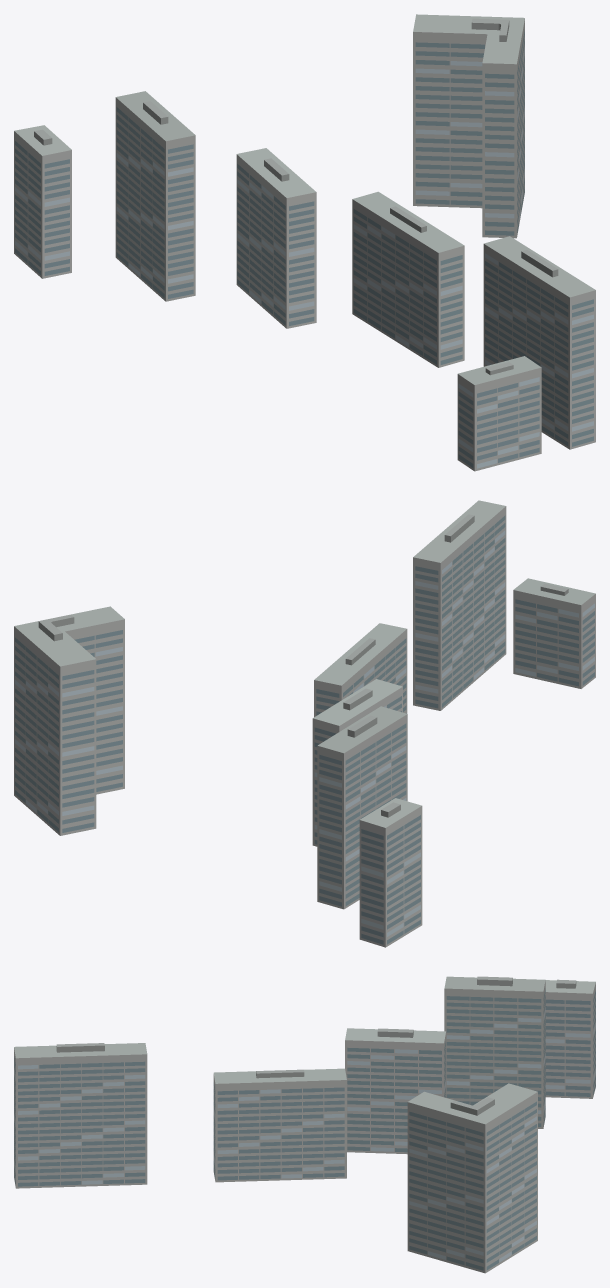
The model's file is apt-a10025166.glb.
3 views of the same model, one above another, from view 1: azimuth 30°, elevation 25°; view 2: azimuth 150°, elevation 25°; view 3: azimuth 270°, elevation 25° (orthographic). The views are drawn at different scales.
Parts seen in each view (by area): view 1: apt-a10025166; view 2: apt-a10025166; view 3: apt-a10025166.
Boxes of the visible parts, x1=… form: apt-a10025166: x1=14, y1=14, x2=595, y2=471; apt-a10025166: x1=14, y1=500, x2=595, y2=947; apt-a10025166: x1=14, y1=976, x2=595, y2=1273.
Size of the model in its own units: 172 by 66 by 225.
